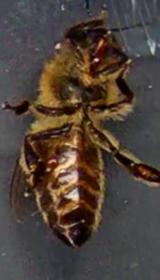varroa_mite: (34, 146, 62, 184)
